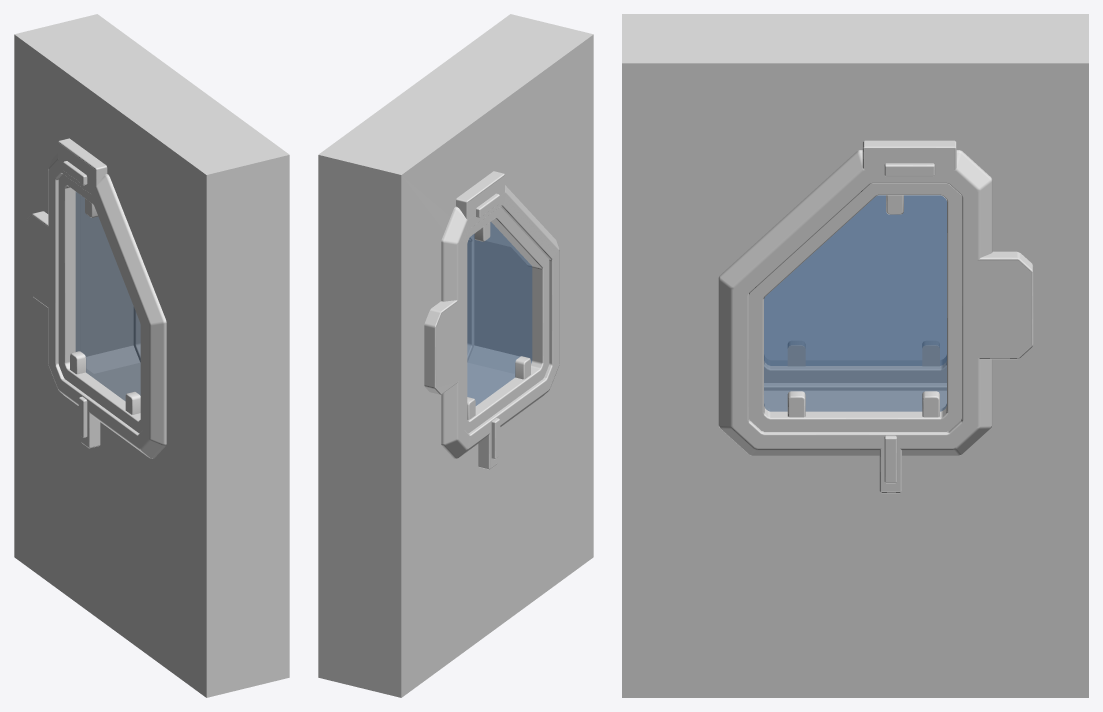
Rendered from Building_04_Wall_04_Right.fbx.
3 renders of one model, left to right at view 1: azimuth 30°, elevation 25°; view 2: azimuth 150°, elevation 25°; view 3: azimuth 270°, elevation 25°, orthographic. The views are drawn at different scales.
Parts seen in each view (by area): view 1: Building_04_Wall_04_Right, Building_04_Wall_04_R_Glass; view 2: Building_04_Wall_04_Right, Building_04_Wall_04_R_Glass; view 3: Building_04_Wall_04_Right, Building_04_Wall_04_R_Glass.
Part boxes in pixels (box(x1,y1,x2,y2)): Building_04_Wall_04_Right: box(14, 14, 289, 697); Building_04_Wall_04_R_Glass: box(75, 192, 140, 400); Building_04_Wall_04_Right: box(318, 14, 593, 697); Building_04_Wall_04_R_Glass: box(467, 222, 532, 405); Building_04_Wall_04_Right: box(622, 14, 1088, 697); Building_04_Wall_04_R_Glass: box(764, 195, 946, 411).
Size of the model in its own units: 0.6822 by 3 by 2.
